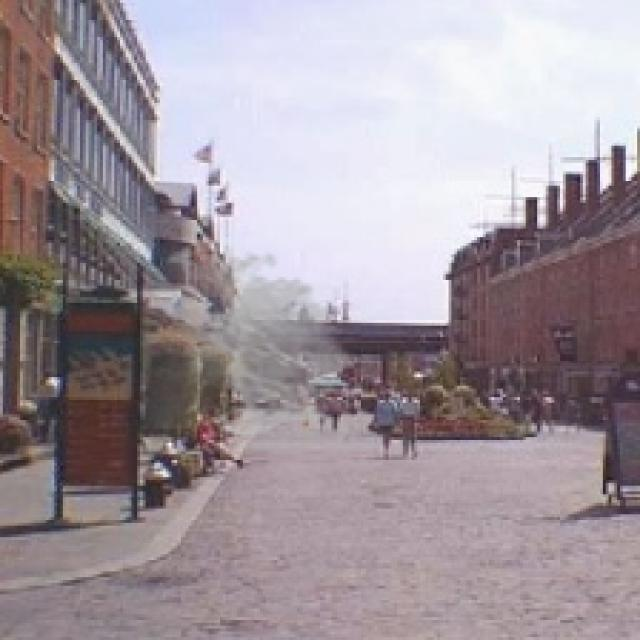Smoke: (140, 240, 357, 443)
